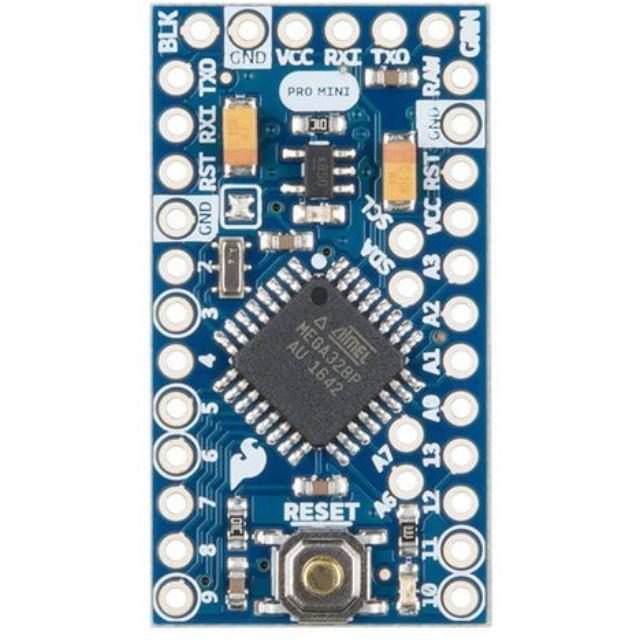Arduino-ProMini: (152, 3, 490, 629)
